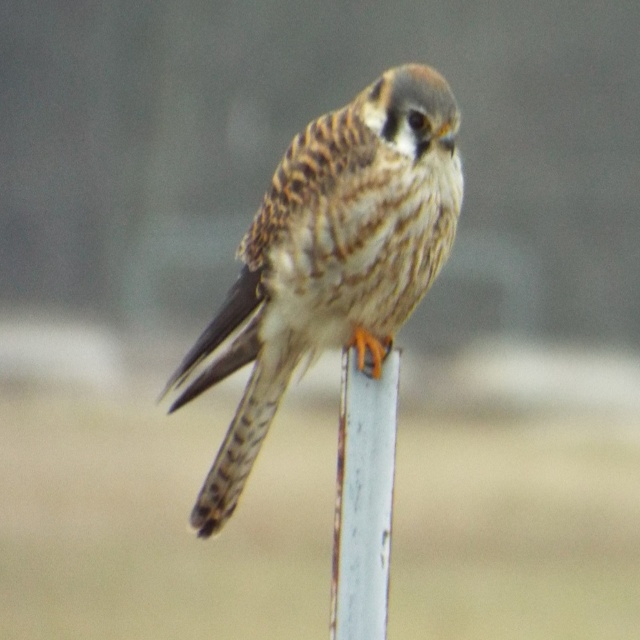Sparrow: (158, 59, 464, 537)
